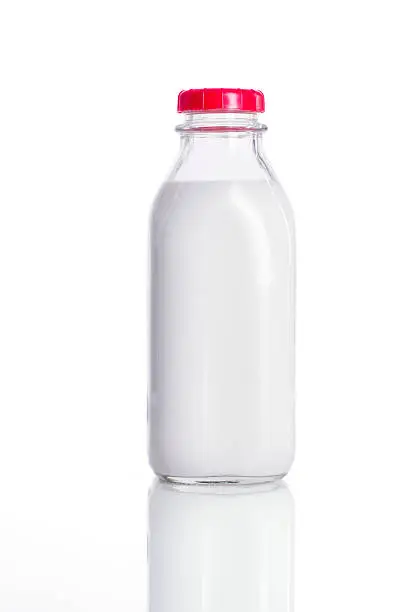glass_bottle: (140, 80, 316, 491)
